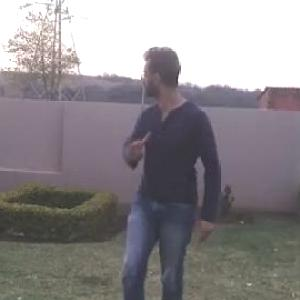takeoff-hand: (119, 122, 149, 159)
